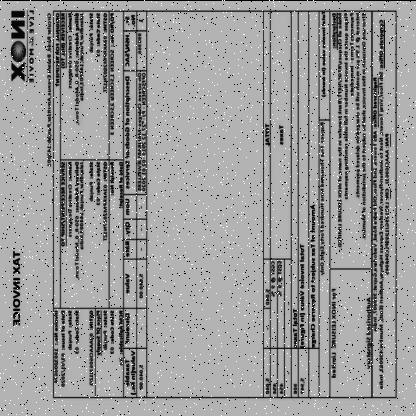Paragraph: (331, 11, 367, 248), (372, 17, 392, 390), (60, 159, 108, 280), (60, 10, 108, 124), (53, 308, 80, 386), (10, 8, 35, 82), (96, 308, 124, 365), (310, 203, 316, 347), (47, 12, 52, 166), (320, 120, 325, 274), (109, 11, 115, 134), (110, 160, 124, 208), (300, 243, 306, 347), (12, 249, 20, 325), (88, 308, 94, 386), (271, 259, 283, 297), (331, 287, 336, 377), (321, 9, 326, 96), (366, 296, 372, 368), (56, 12, 61, 86), (292, 308, 298, 348), (266, 376, 276, 394), (264, 122, 270, 146), (278, 123, 284, 145), (300, 377, 305, 393), (266, 288, 271, 304), (294, 382, 298, 393), (280, 382, 284, 393)
Table: (124, 9, 148, 397)
